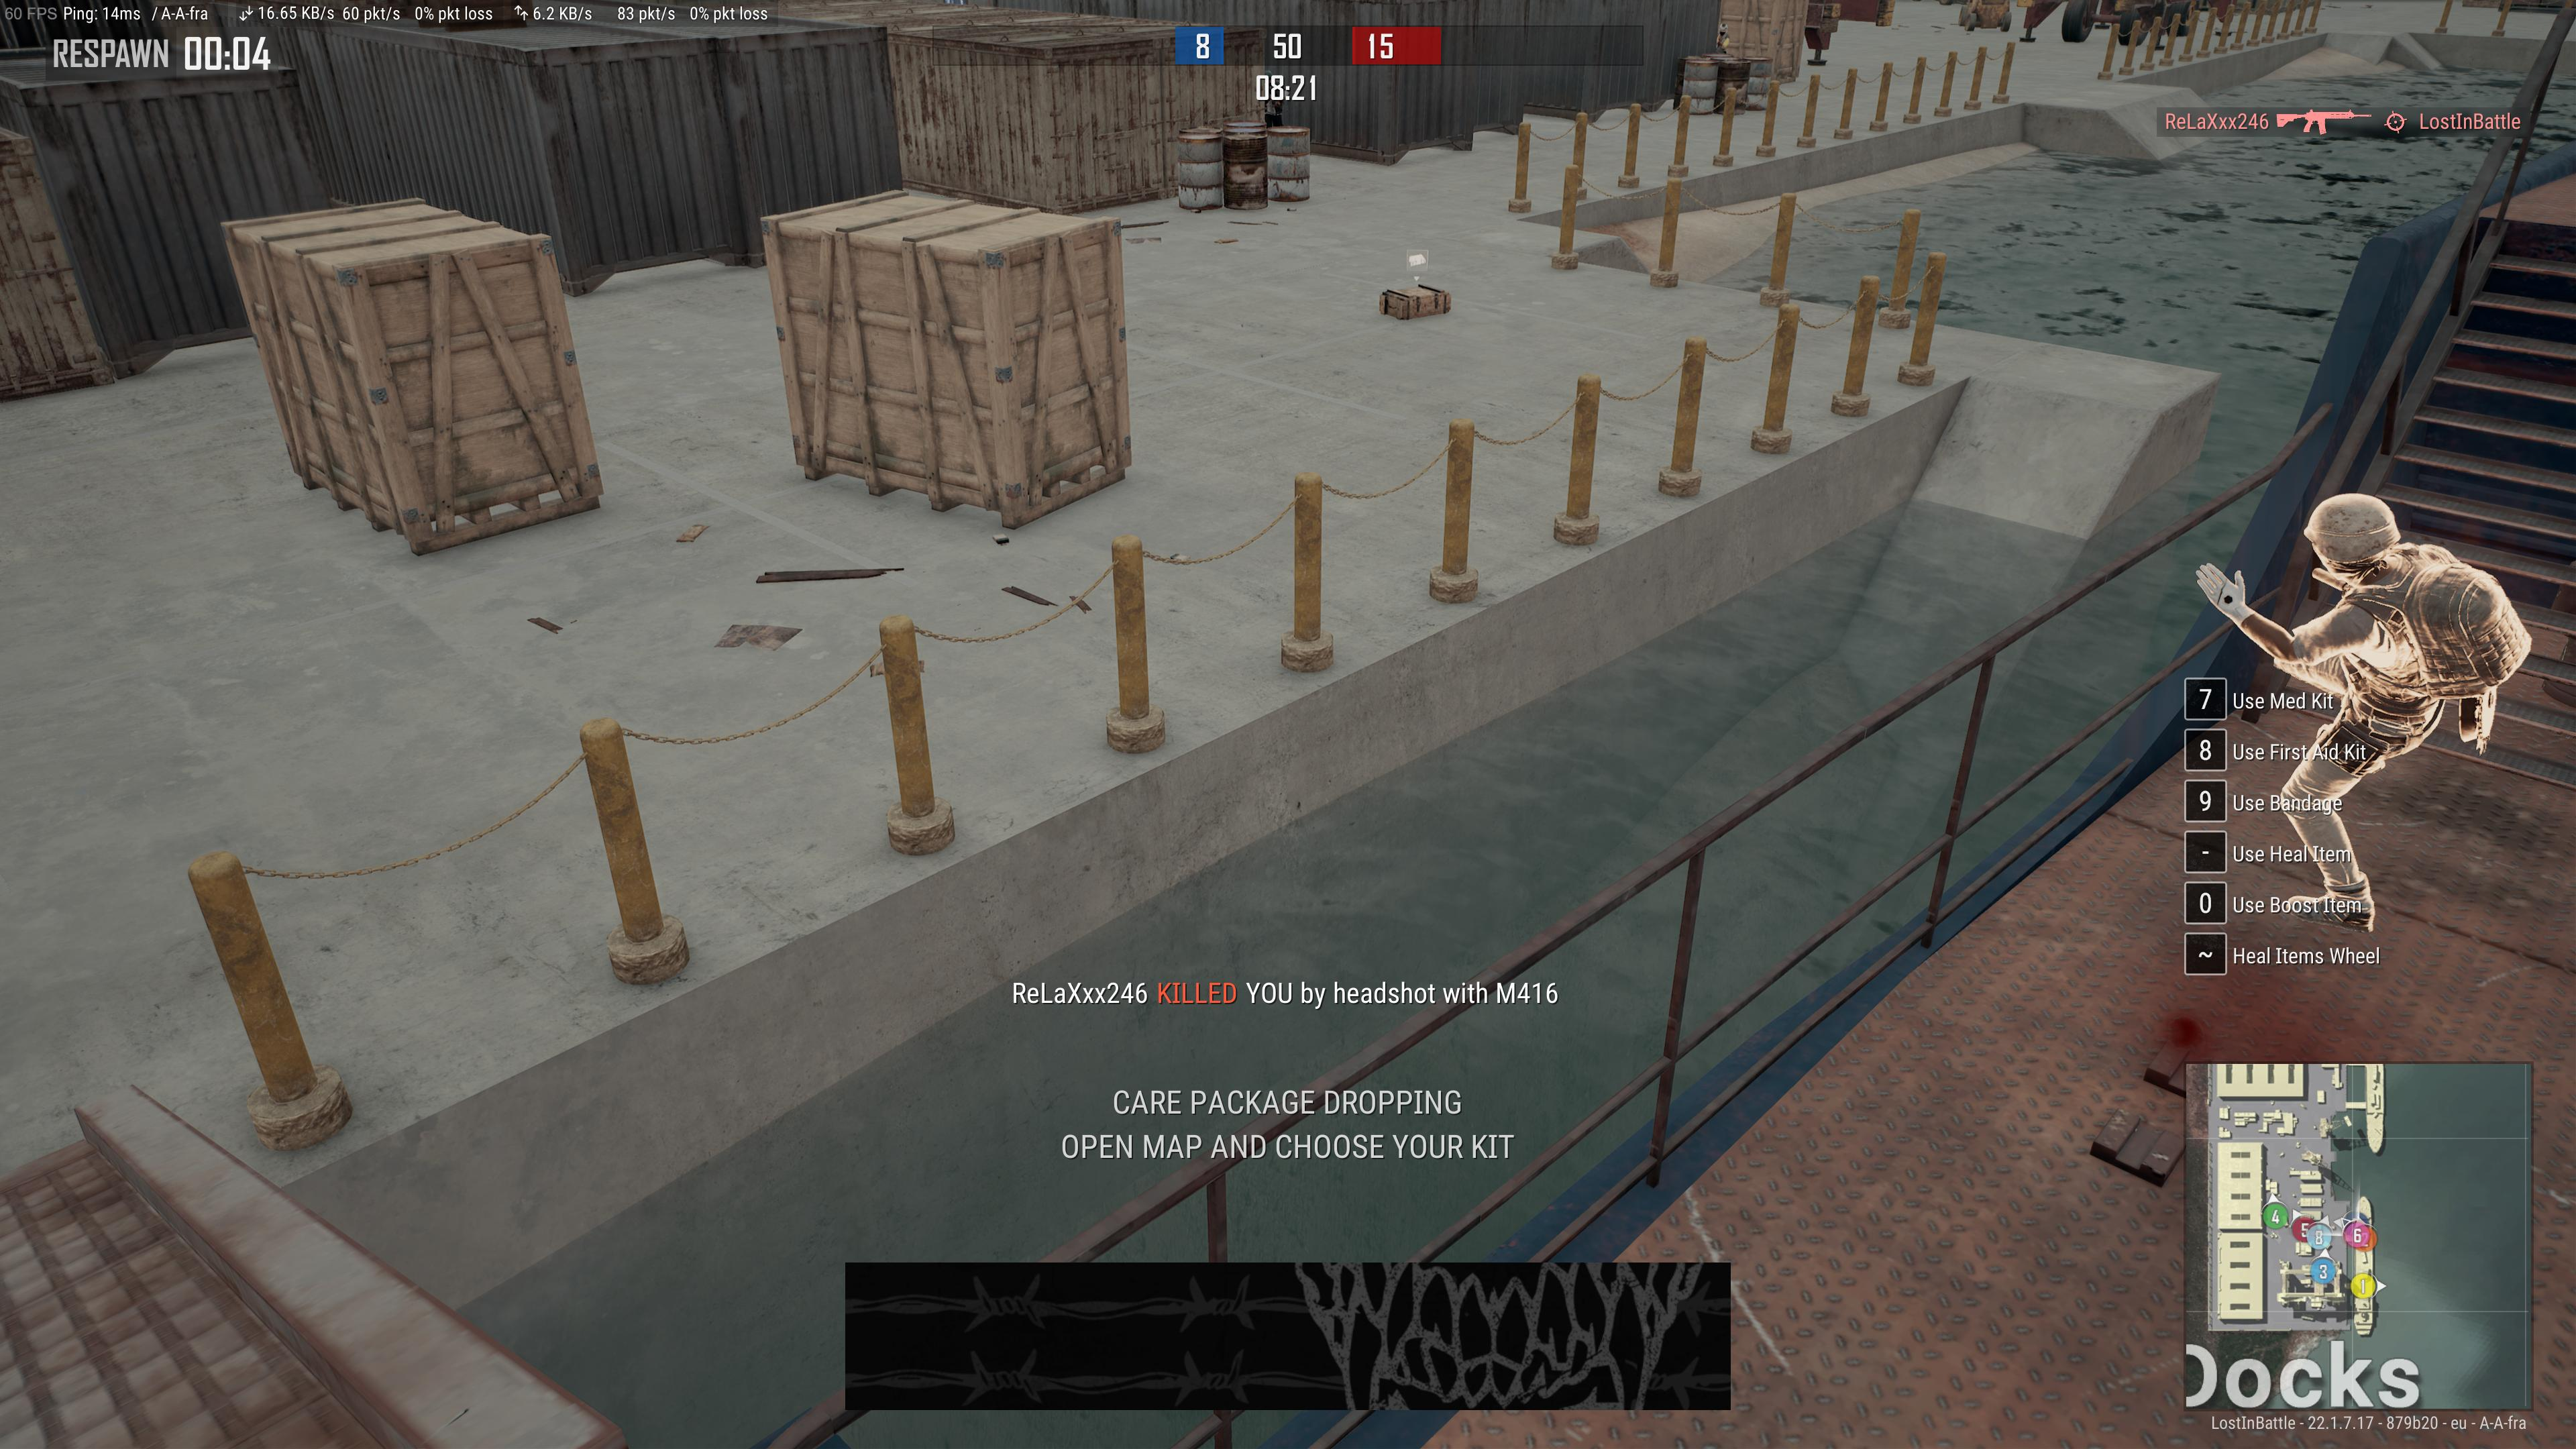enemy: (1258, 67, 1286, 127), (1716, 23, 1729, 53)
enemy_head: (1718, 23, 1727, 35)
